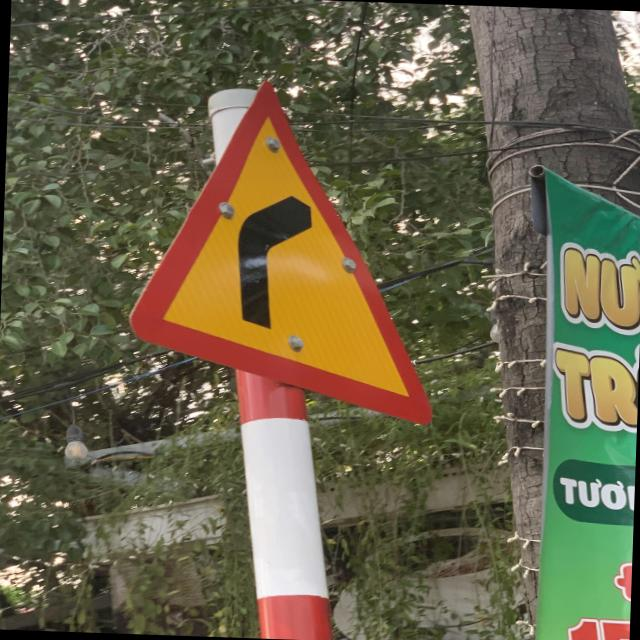Duong_Nguoi_Di_Bo_Cat_Ngang: (122, 76, 448, 422)
